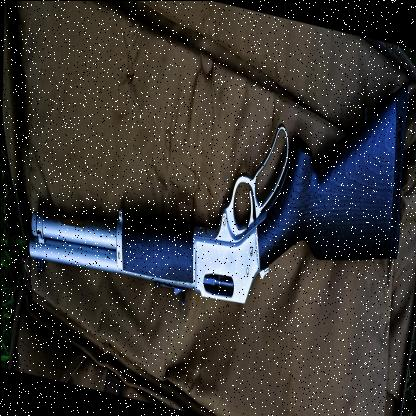rifle: (28, 17, 407, 360)
